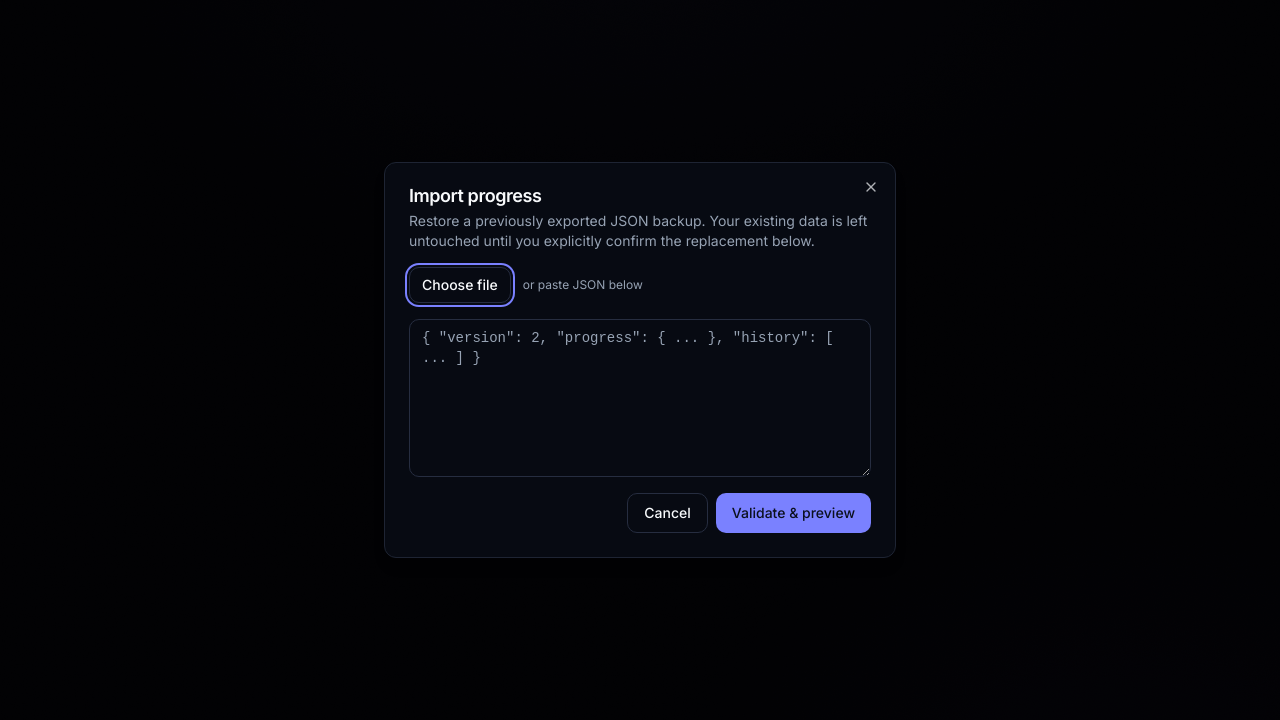
Test case: ImportDialog › shows an error for empty input
The width and height of the screenshot is (1280, 720).
Click the button "Validate & preview" at (793,513), box [716, 493, 871, 533]
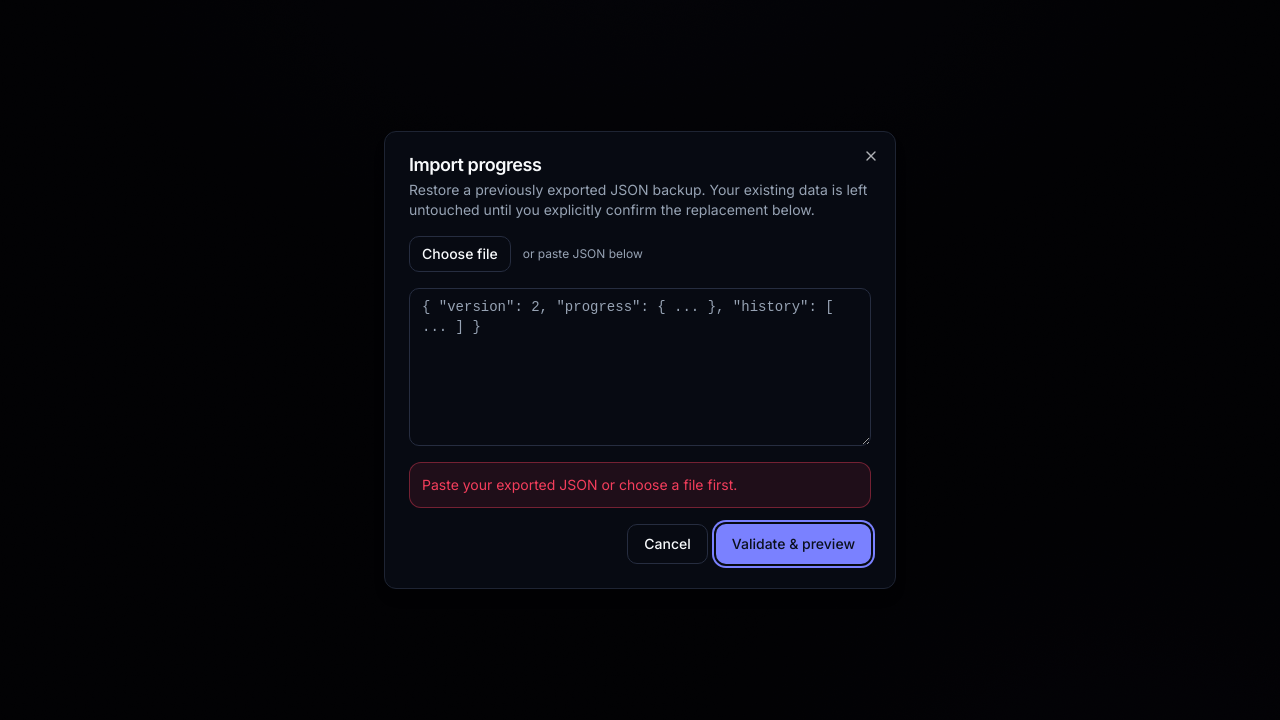
Check: the message shows "Paste your exported JSON", box [422, 476, 737, 493]
